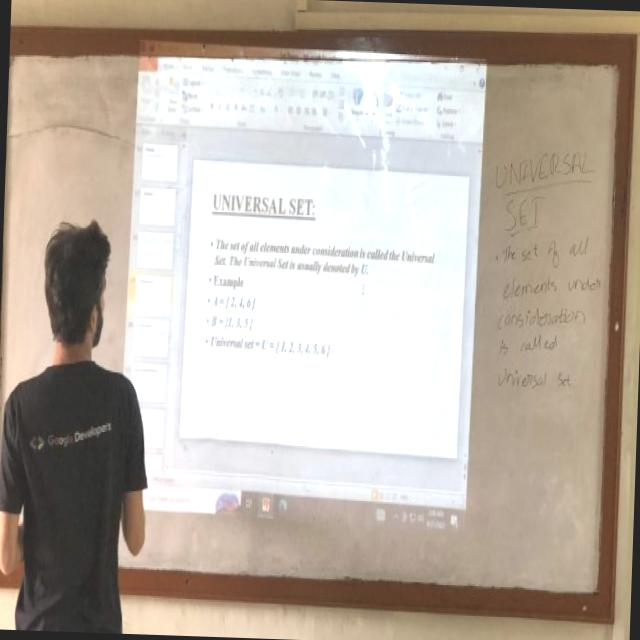Instructor: (0, 219, 142, 619)
Slide: (115, 35, 491, 537)
White-board: (0, 30, 629, 607)
